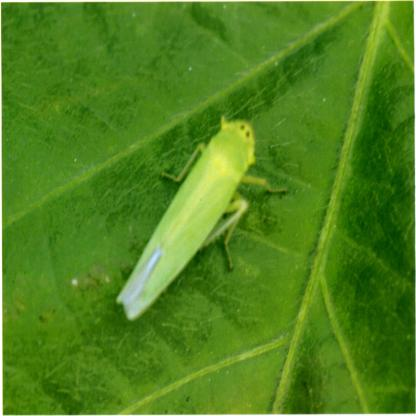Green-Leafhopper: (98, 111, 286, 326)
